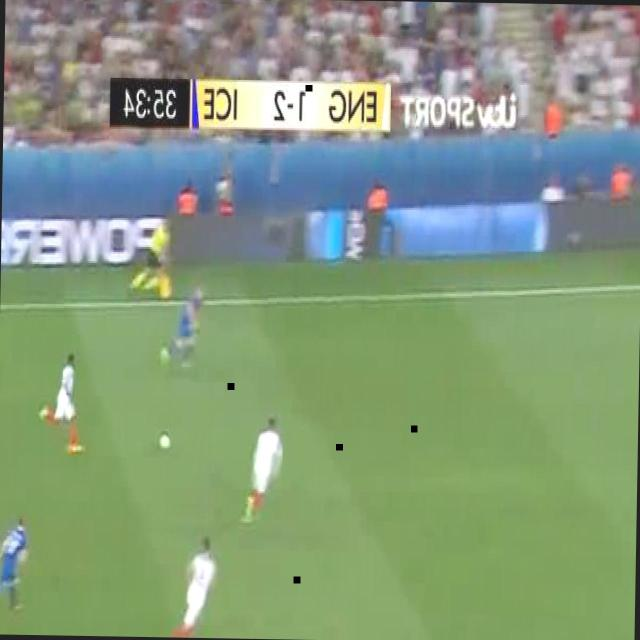ball: (160, 434, 170, 450)
player-white: (166, 533, 218, 638), (37, 354, 87, 454), (241, 417, 283, 524), (162, 287, 204, 367), (132, 220, 172, 300), (0, 513, 28, 612)
